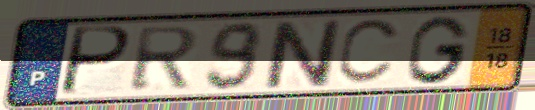9: (202, 20, 266, 93)
C: (334, 16, 406, 88)
G: (404, 13, 473, 86)
N: (262, 17, 343, 91)
P: (56, 24, 134, 98)
R: (126, 24, 203, 94)
